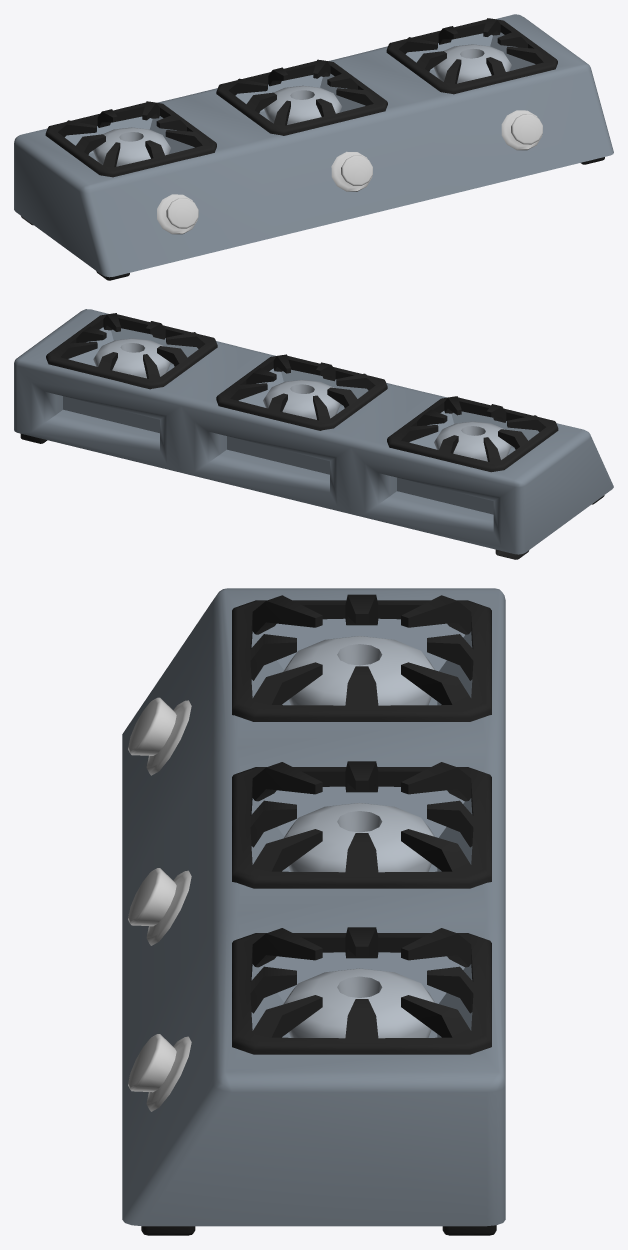
Rendered from Big-Stove.fbx.
3 renders of one model, top to bottom at view 1: azimuth 30°, elevation 25°; view 2: azimuth 150°, elevation 25°; view 3: azimuth 270°, elevation 25°, orthographic. The views are drawn at different scales.
Parts seen in each view (by area): view 1: Big-Stove; view 2: Big-Stove; view 3: Big-Stove.
Boxes of the visible parts, <box> form: Big-Stove: <box>14,14,613,280</box>; Big-Stove: <box>14,309,613,559</box>; Big-Stove: <box>122,588,505,1235</box>.
Bounding box in the file's own units: 2 × 0.3542 × 0.65.
